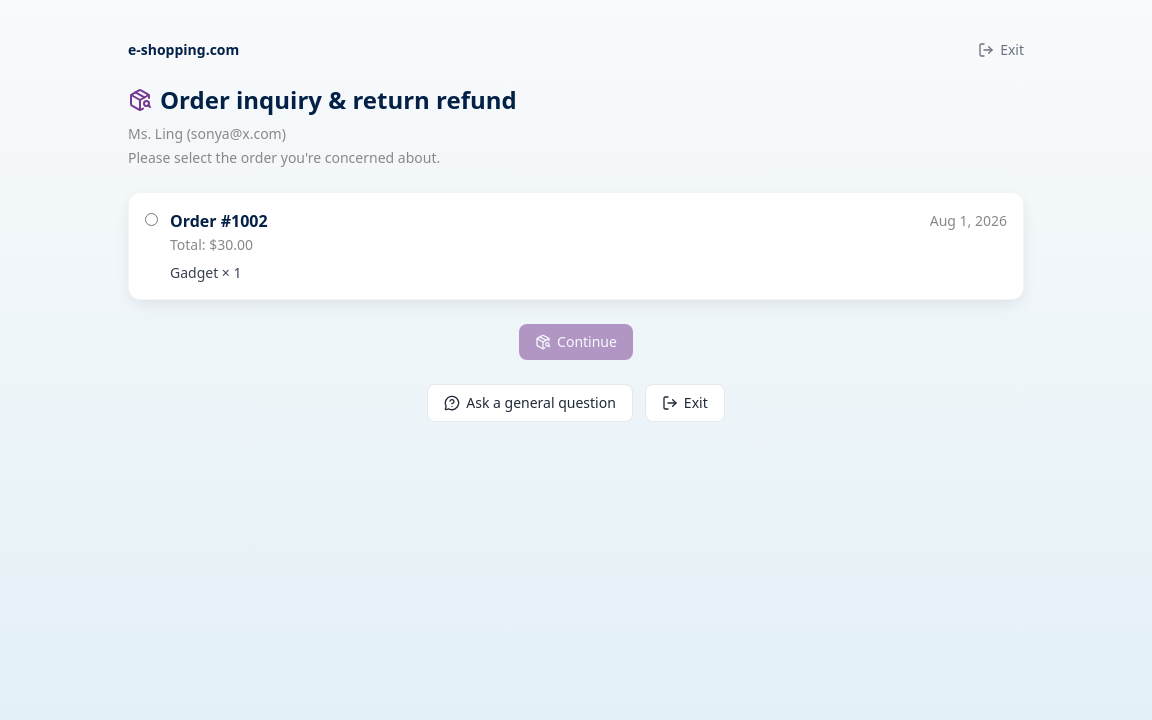
OrderInquiryPage › hides 'Like to Exchange or Return for Refund' for an order that hasn't been delivered yet
Expected: the text "Order #1002" is shown, x1=170 y1=209 x2=268 y2=233
Click the radio button: (152, 220) x1=145 y1=213 x2=158 y2=226
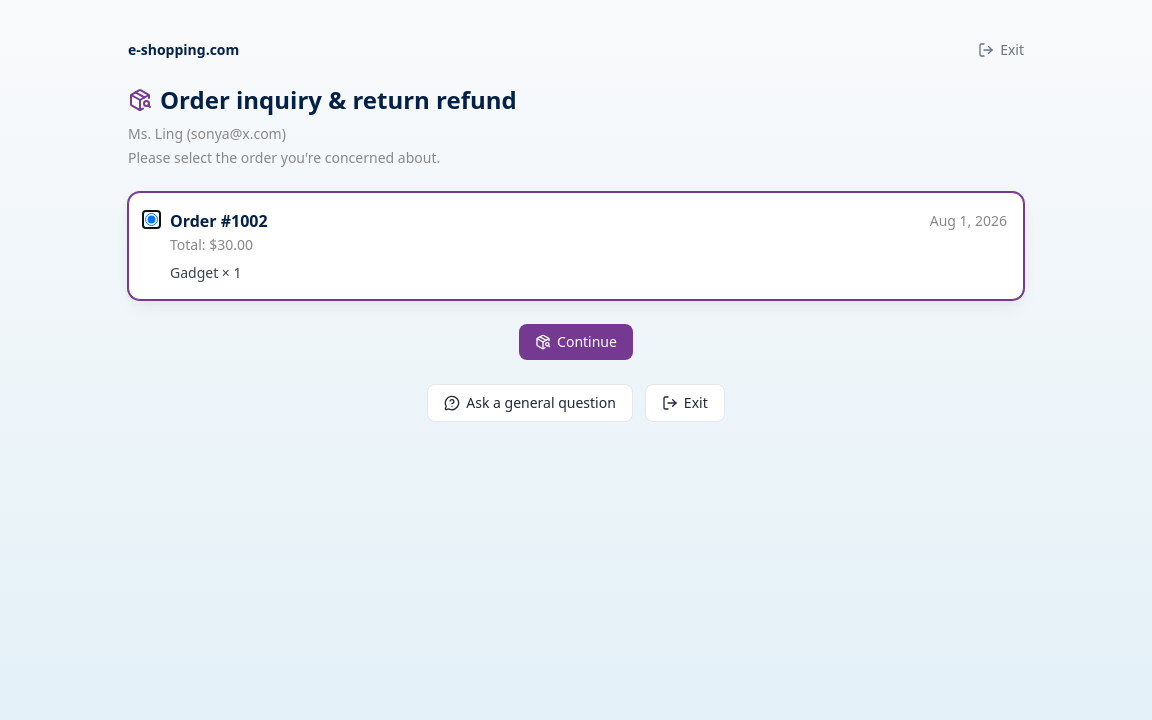
Click the button "Continue": (576, 342) x1=519 y1=324 x2=633 y2=360
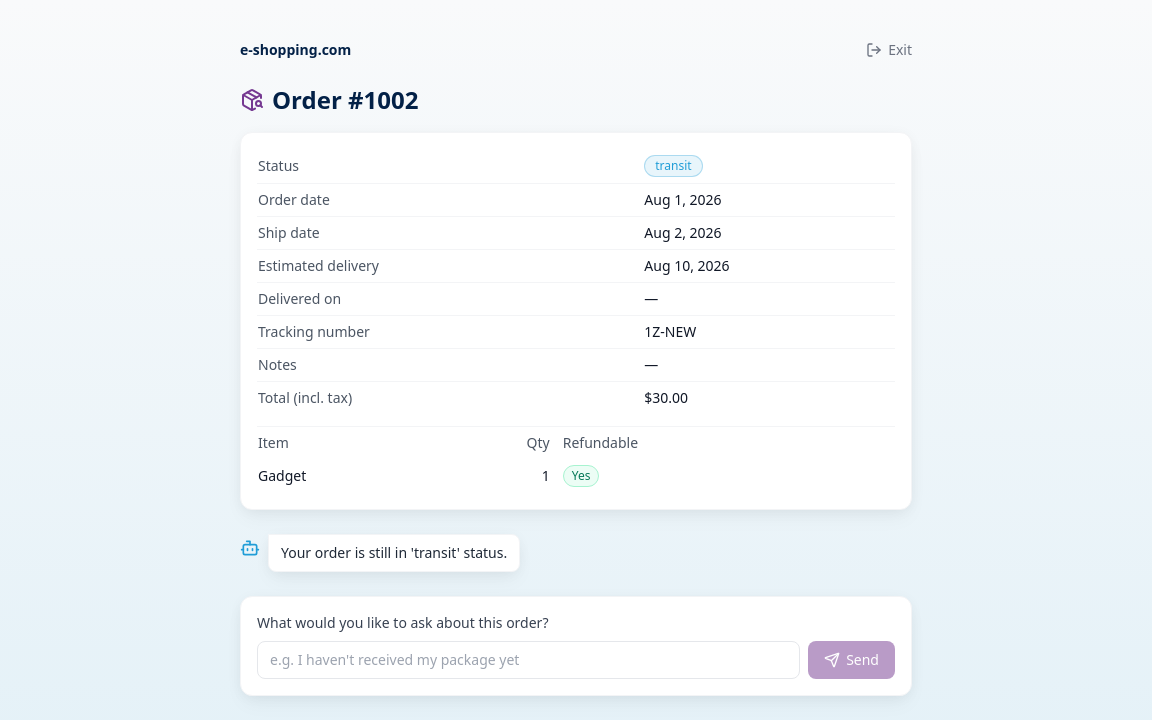
Expected: the text "Your order is still in 'transit' status." is shown, x1=268 y1=534 x2=520 y2=572
